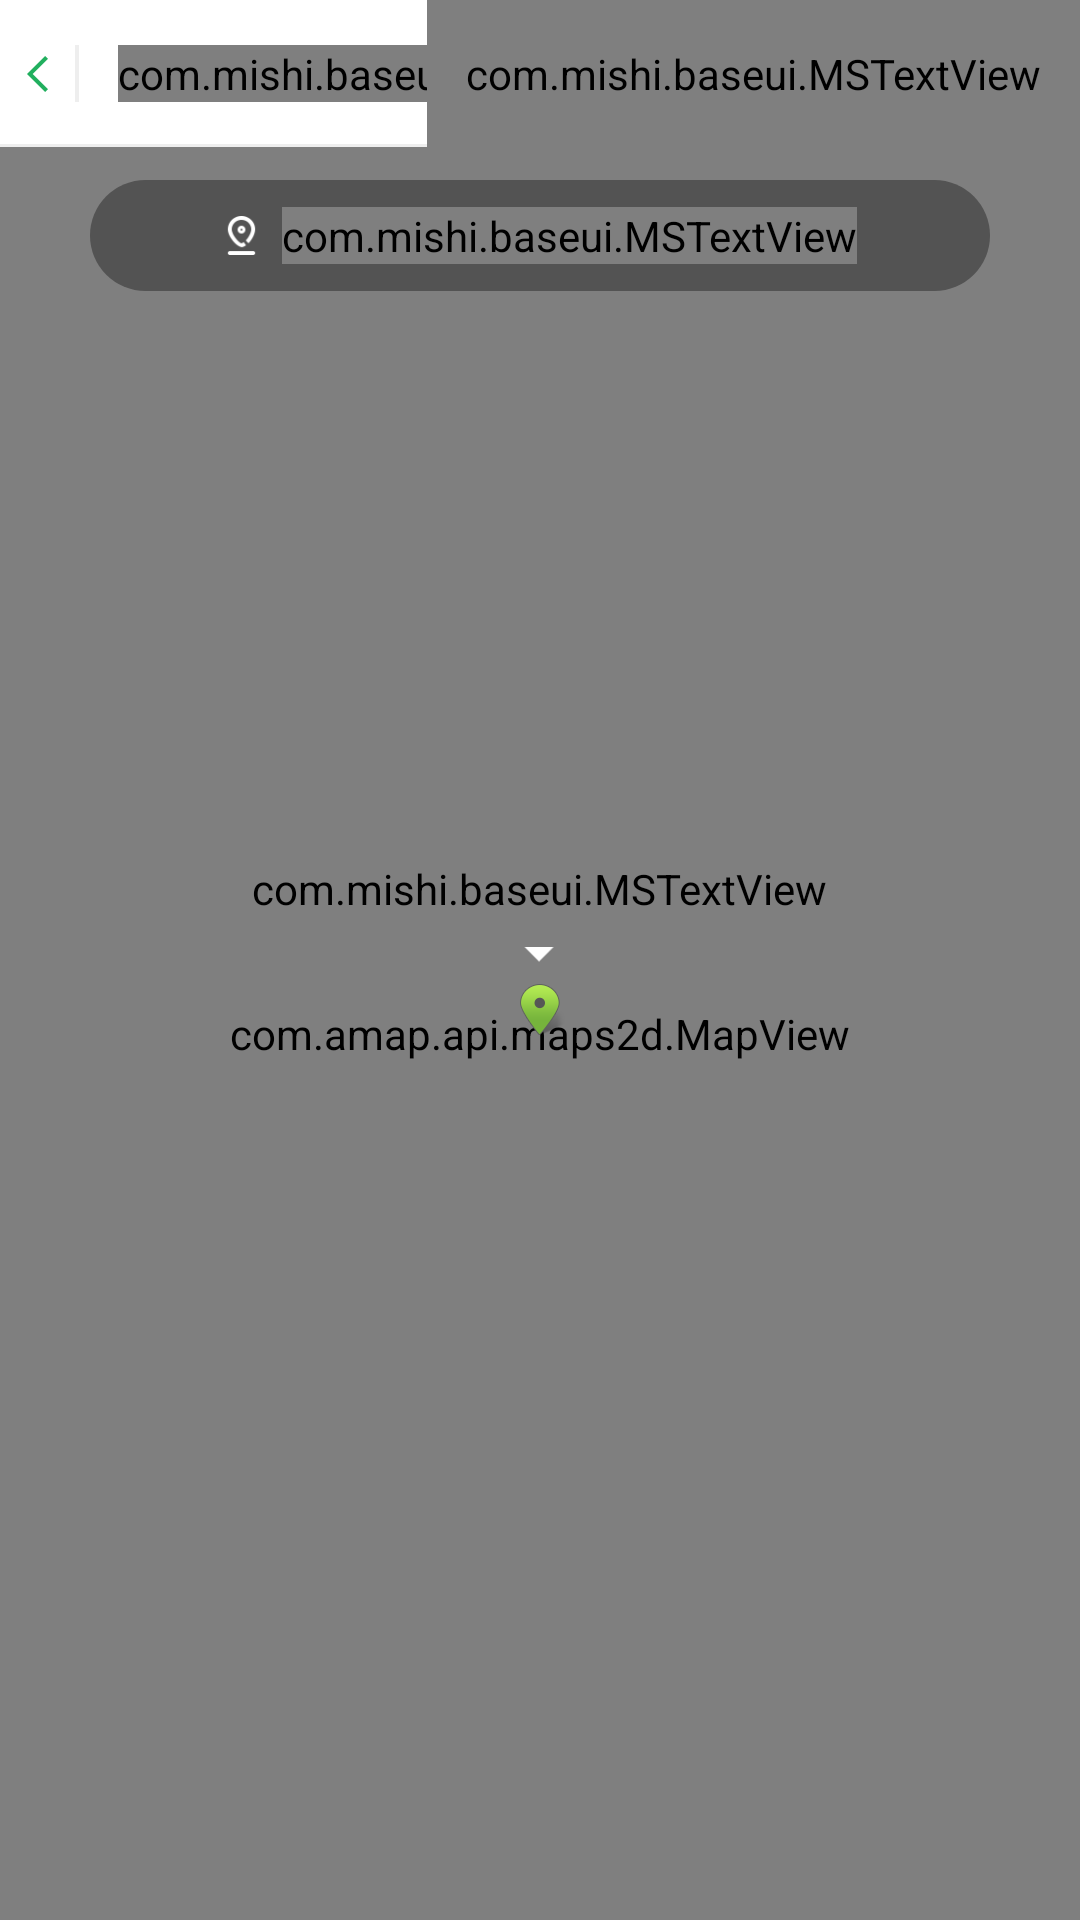

Icon click points for this 1080x1920 phone screenshot, format [x,y]:
arrow back: [37,74]
map position: [540,1009]
position tip: [241,235]
triangle: [539,954]
